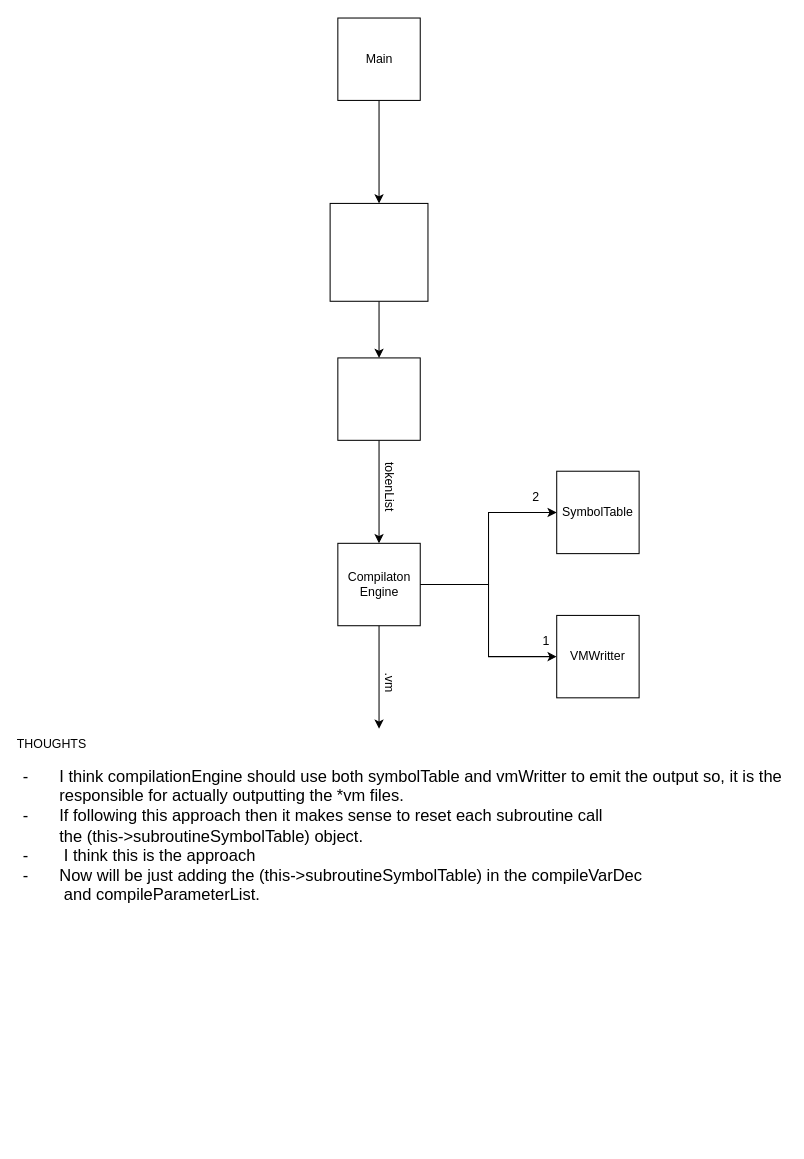
This 804x1159 diagram has some shape labels left out. Each missing label, with the centre of its shape:
JackAanalyzer: [378,251]
JackTokenizer: [378,398]
